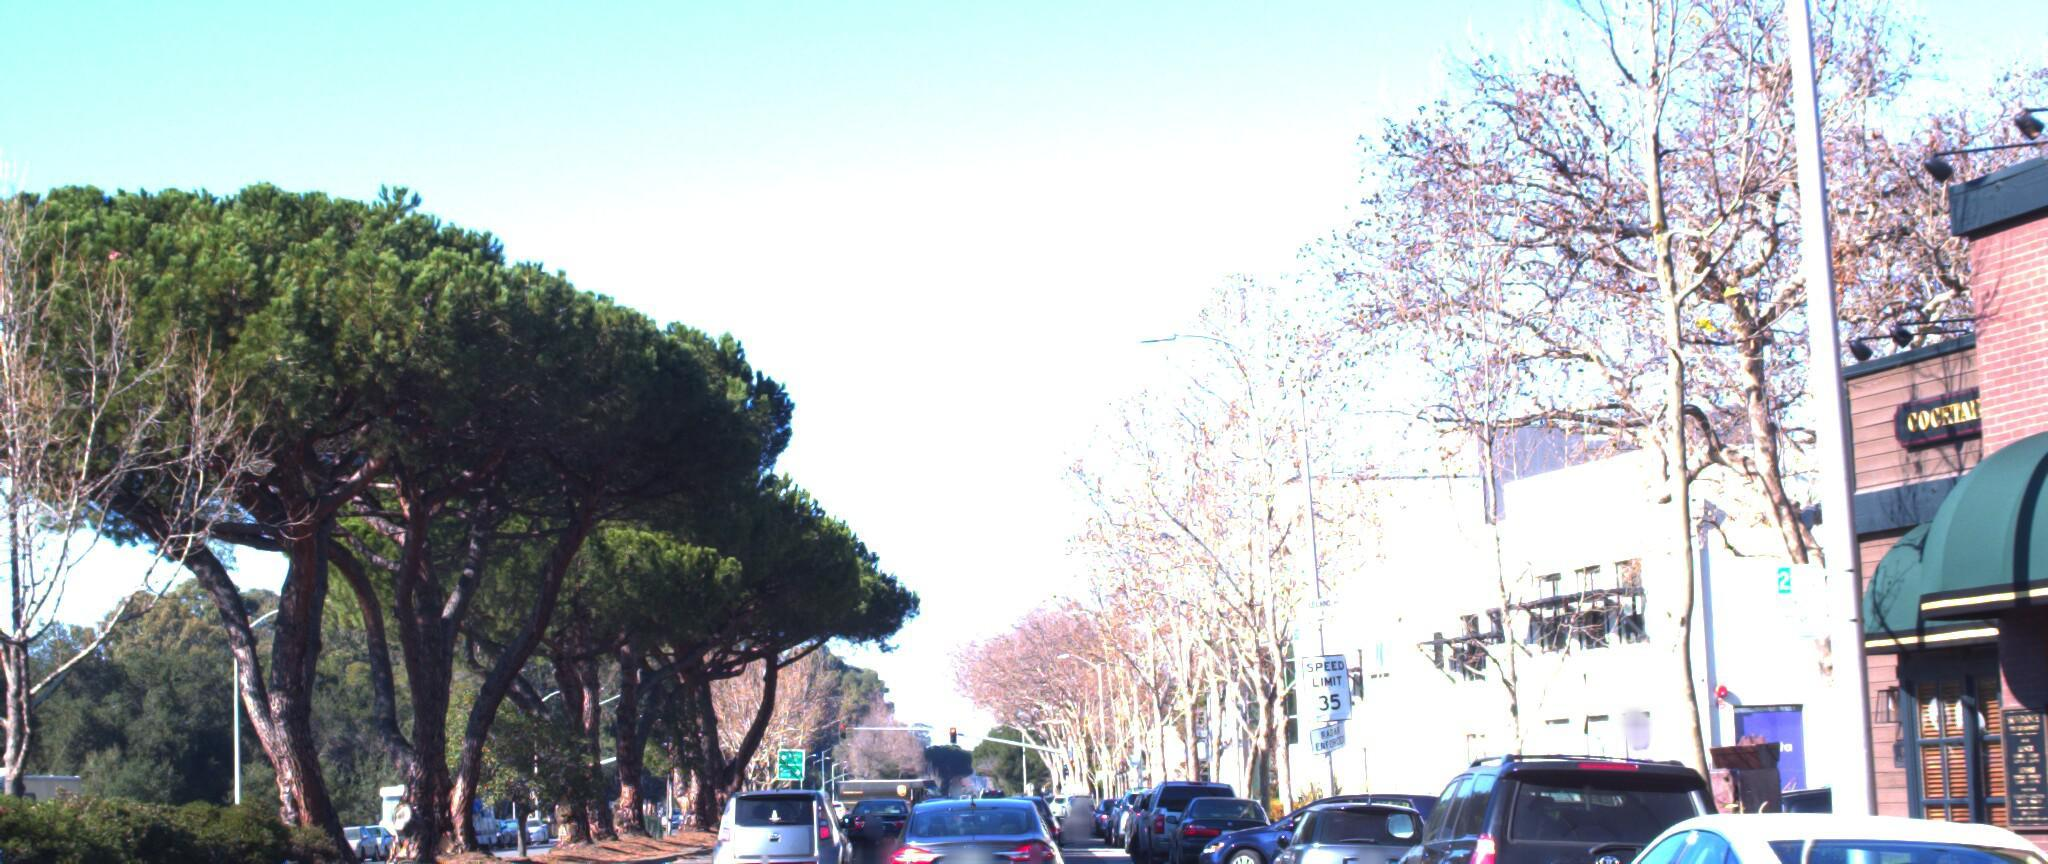car: (1351, 735, 1799, 864), (1485, 787, 2048, 864), (1174, 784, 1482, 864), (1691, 797, 2048, 864), (865, 784, 1064, 864), (1258, 794, 1456, 864), (708, 773, 861, 864), (1128, 774, 1256, 864), (1159, 791, 1281, 864)
